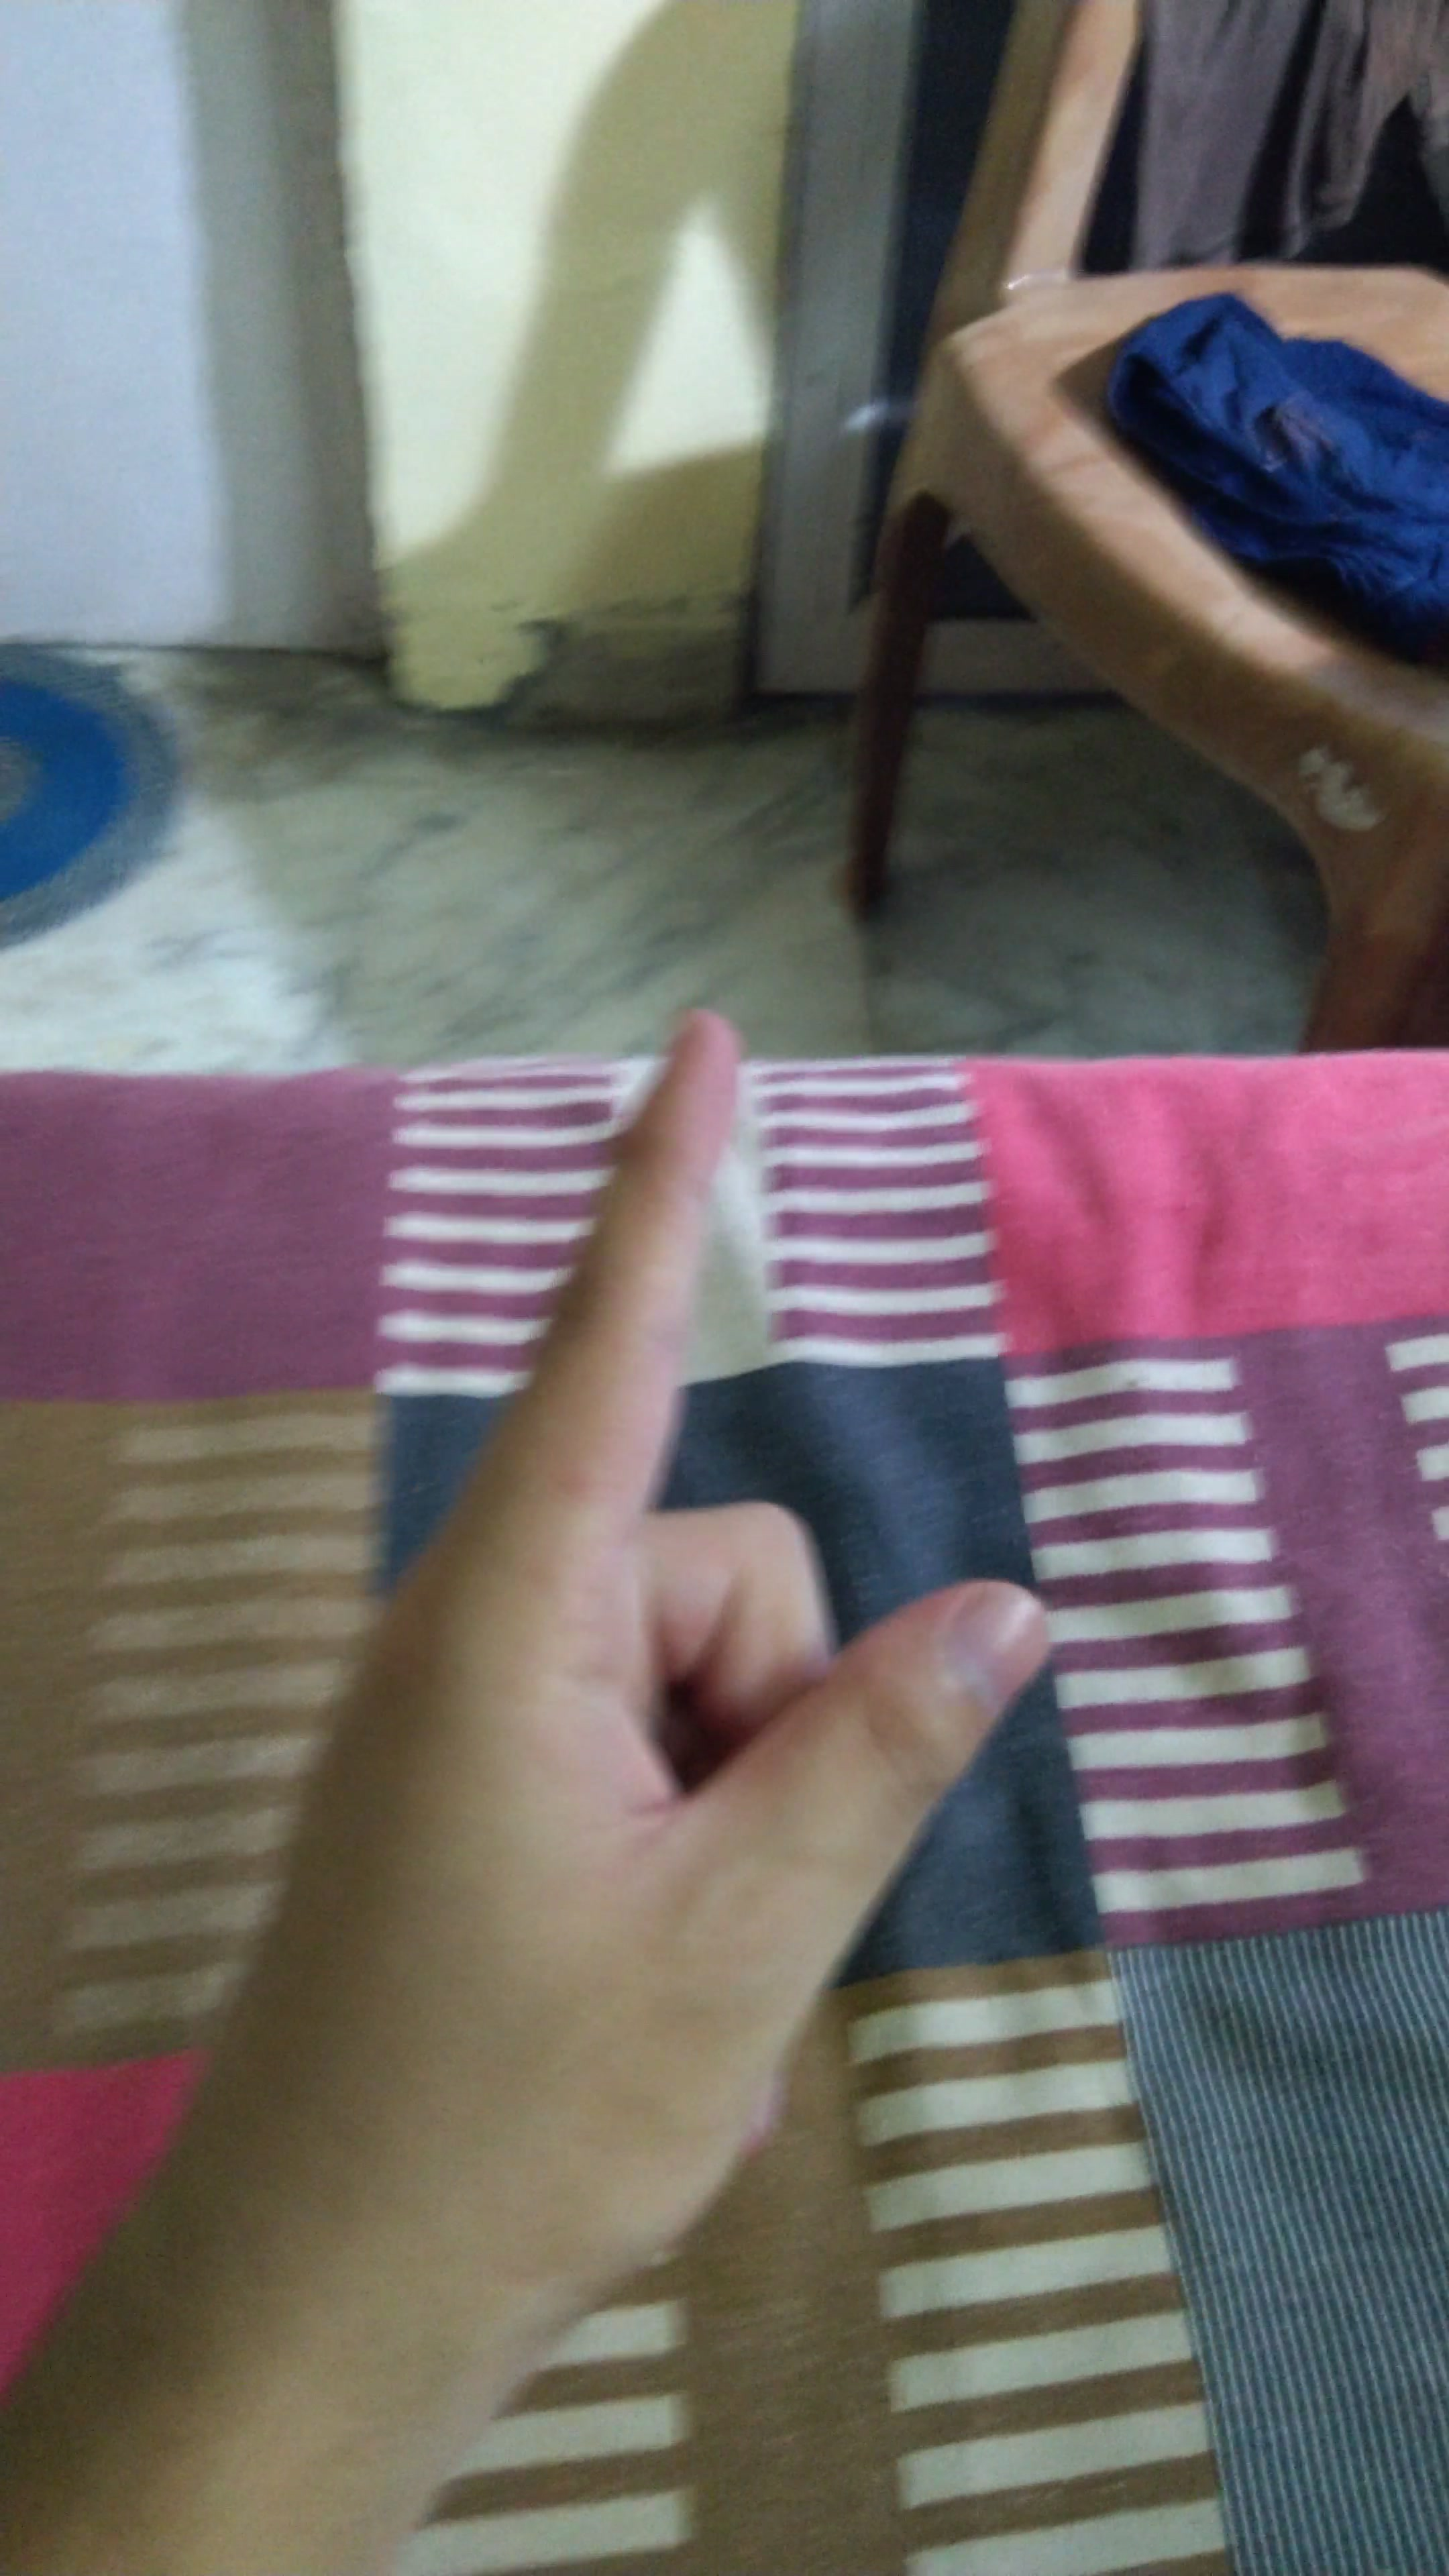hand: (145, 980, 1194, 2319)
